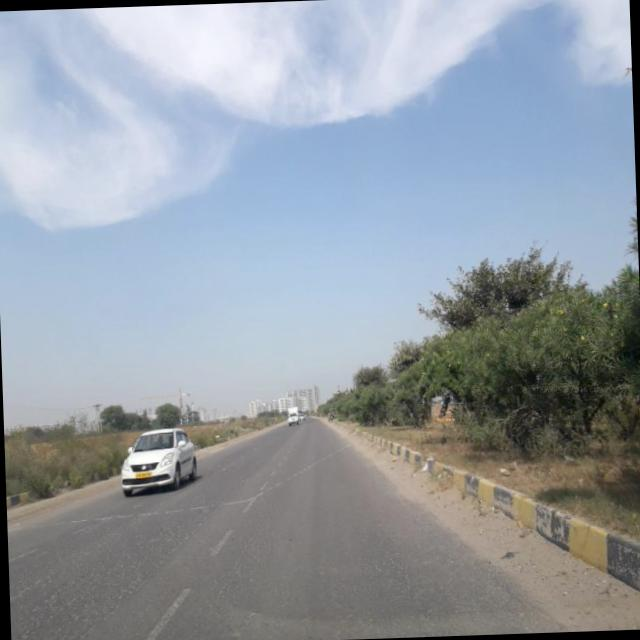crack: (7, 502, 220, 640)
